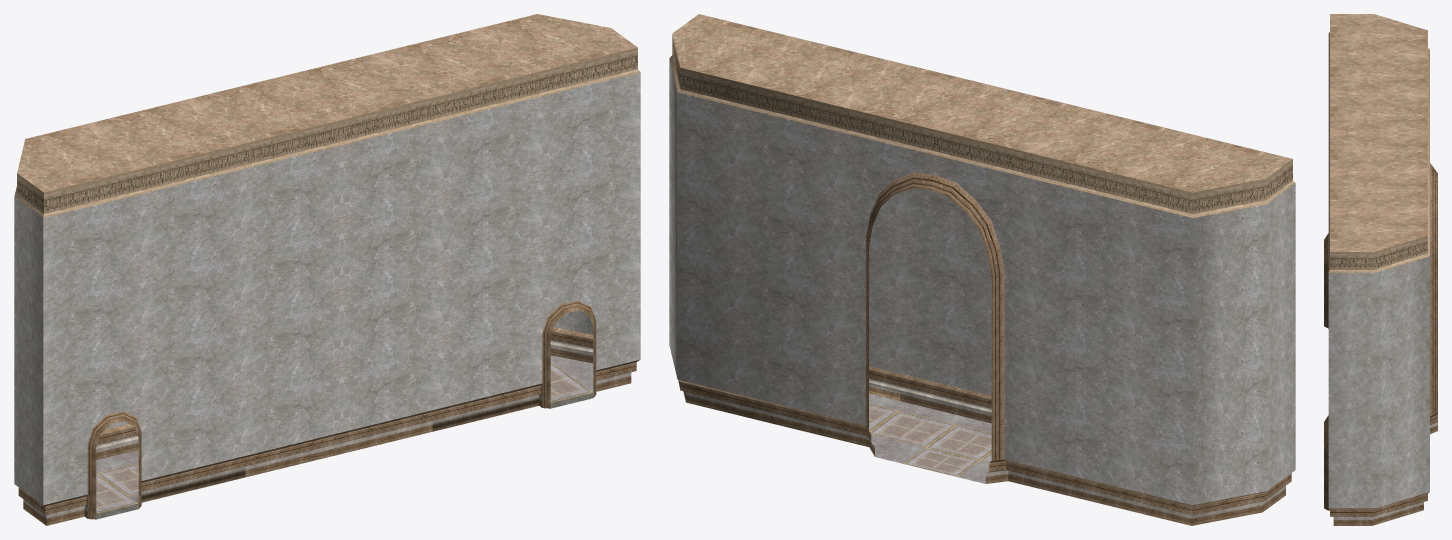
Rendered from thm_nboo_thed_theed_palace_r6_mesh_r6.fbx.
The picture shows the model from 3 angles, left to right: view 1: azimuth 30°, elevation 25°; view 2: azimuth 150°, elevation 25°; view 3: azimuth 270°, elevation 25°; orthographic projection. The views are drawn at different scales.
Parts seen in each view (by area): view 1: mesh_node; view 2: mesh_node; view 3: mesh_node.
Boxes of the visible parts, box(x1,y1,x2,y2) form: mesh_node: box(14, 14, 640, 525); mesh_node: box(669, 14, 1295, 525); mesh_node: box(1324, 14, 1437, 525).
Size of the model in its own units: 44.64 by 24 by 8.98.
